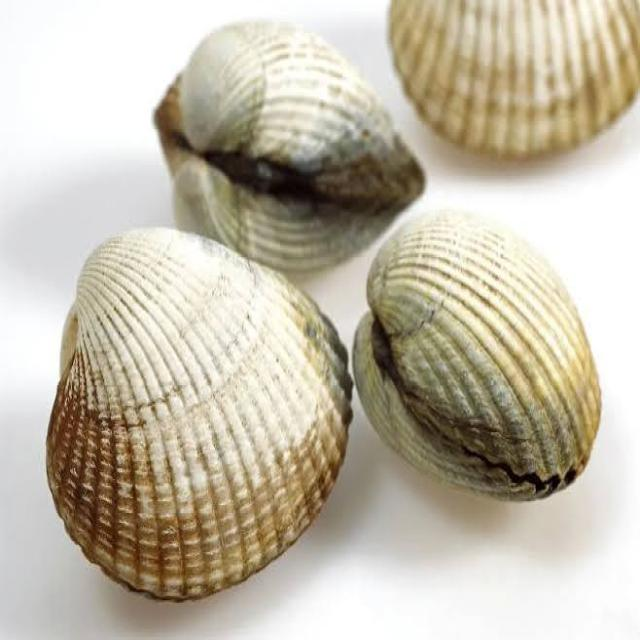egg_cockle: (24, 198, 363, 624), (352, 189, 617, 530)
